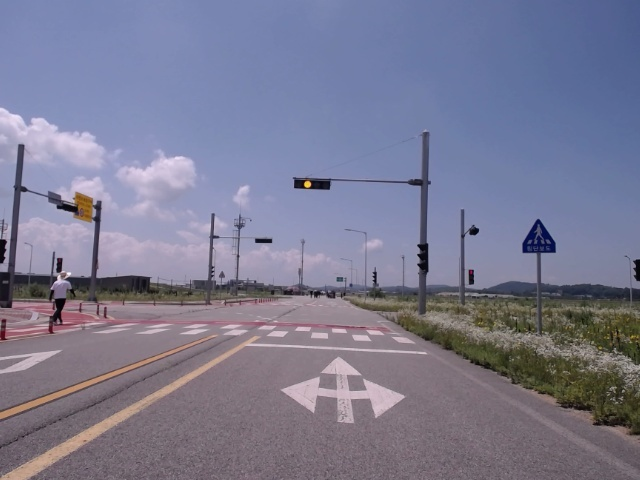orange_4: (293, 177, 330, 190)
